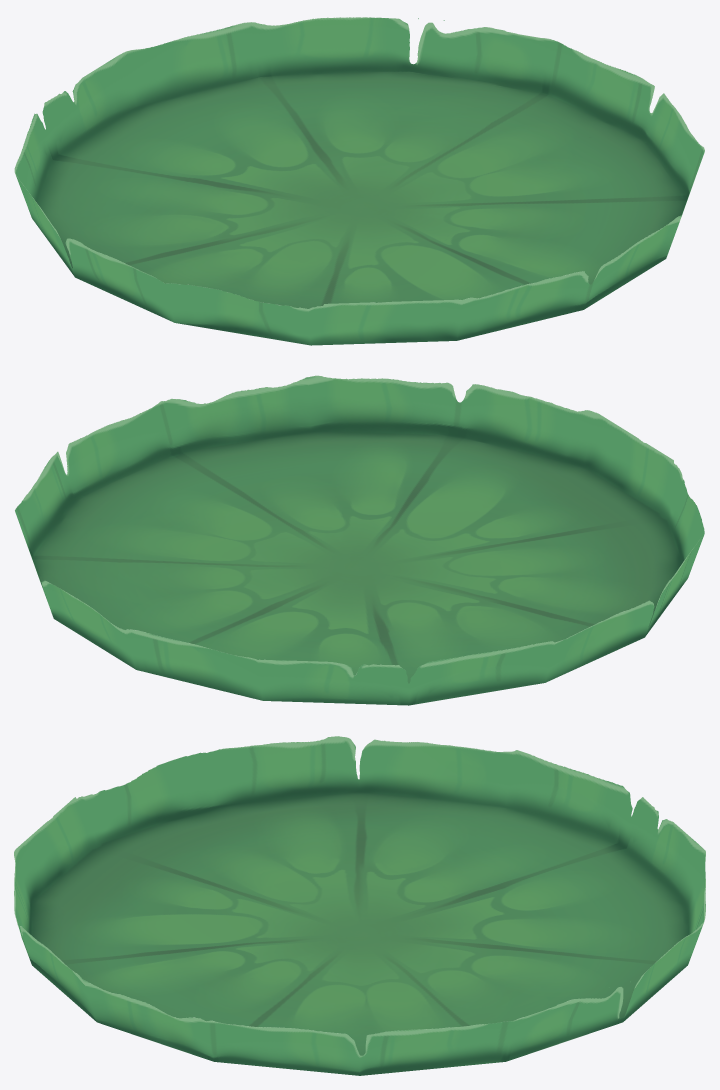
The model's file is MODEL_lilypad1.fbx.
3 views of the same model, one above another, from view 1: azimuth 30°, elevation 25°; view 2: azimuth 150°, elevation 25°; view 3: azimuth 270°, elevation 25° (orthographic). The views are drawn at different scales.
Parts seen in each view (by area): view 1: Lilypad1; view 2: Lilypad1; view 3: Lilypad1.
Boxes of the visible parts, x1,y1,x2,y2 form: Lilypad1: (14, 17, 704, 345); Lilypad1: (15, 375, 704, 705); Lilypad1: (14, 736, 705, 1075).
Bounding box in the file's own units: 49.19 × 3.8 × 47.96.
